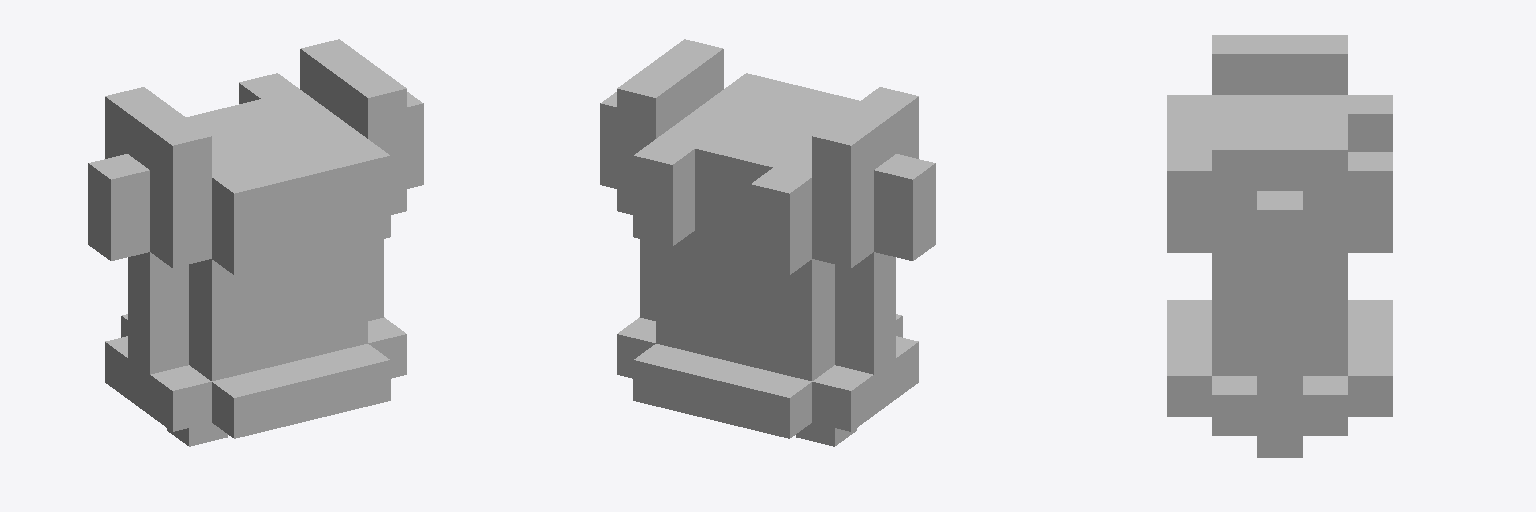
The model's file is Body 11.obj.
3 renders of one model, left to right at view 1: azimuth 30°, elevation 25°; view 2: azimuth 150°, elevation 25°; view 3: azimuth 270°, elevation 25°, orthographic.
Bounding box in the file's own units: 8 × 8 × 5.